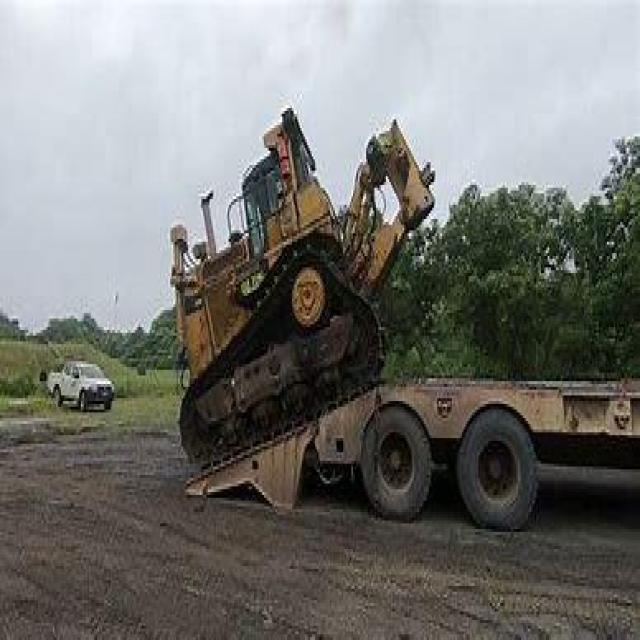buldozerpayloadergrader: (147, 91, 440, 478)
